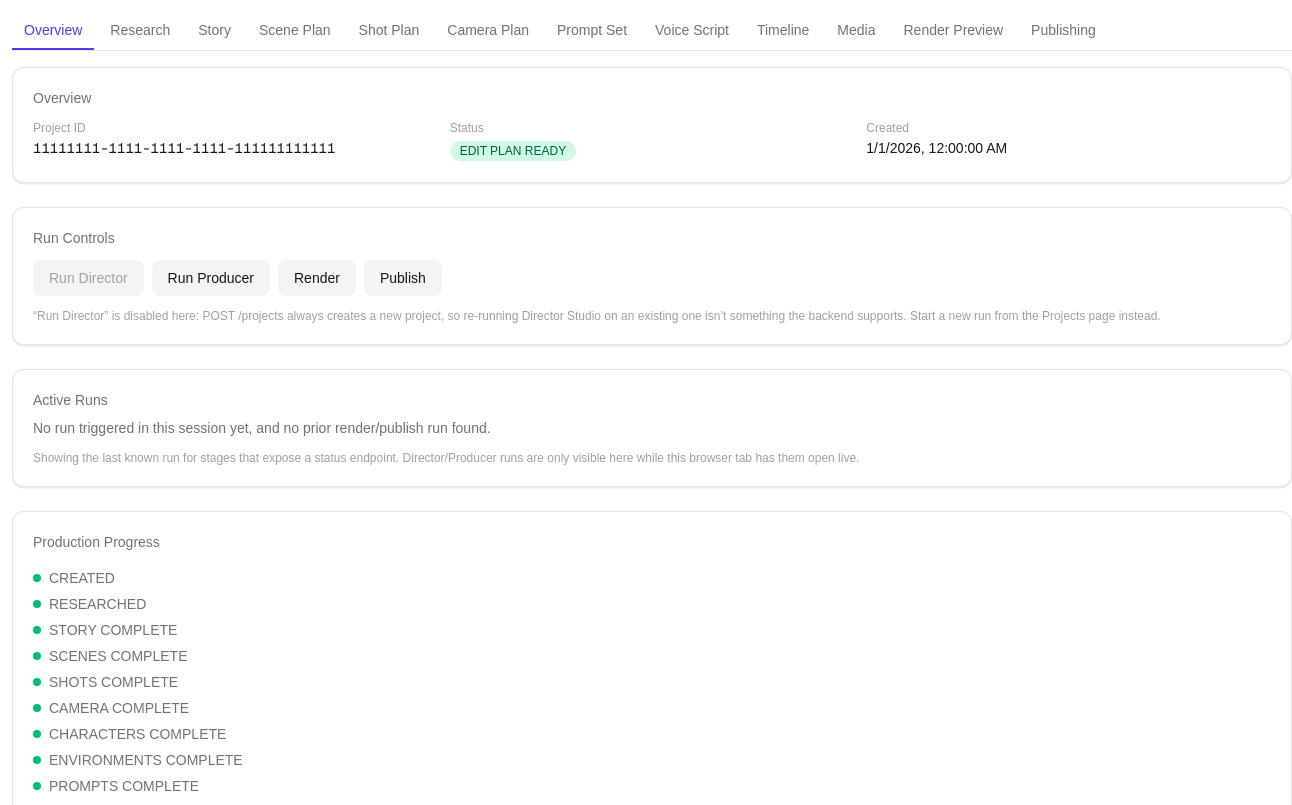
Test: ProjectWorkspace › switches to the Research tab and renders its (empty) content
Click the tab "Research" at [140, 31], box x1=98 y1=12 x2=182 y2=50
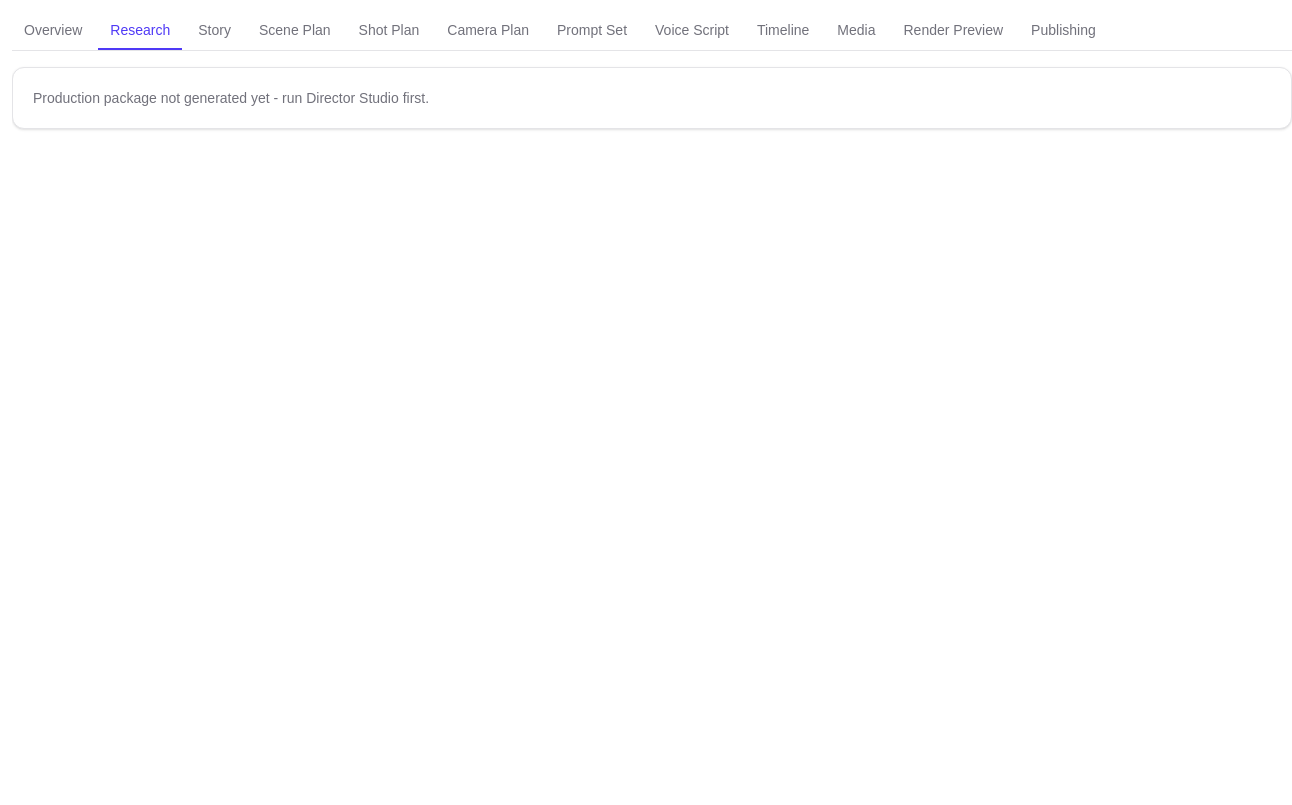
Expected: the text "Production package not generated yet" is shown, x1=33 y1=90 x2=429 y2=106
